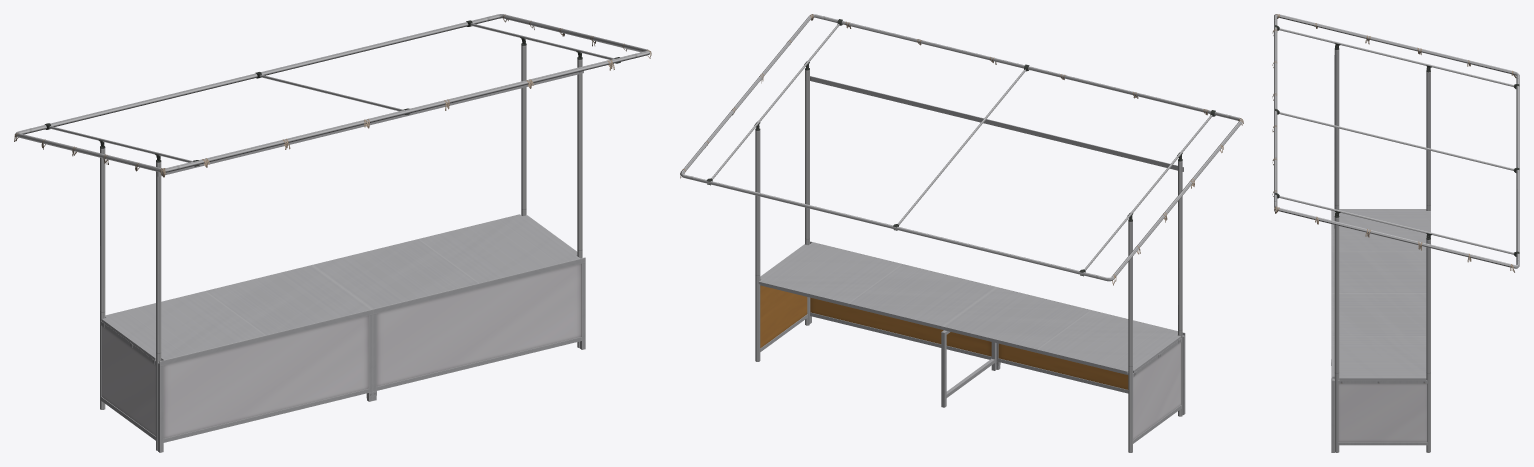
Rendered from jsf_4P_s04_c04_t01.fbx.
The picture shows the model from 3 angles, left to right: view 1: azimuth 30°, elevation 25°; view 2: azimuth 150°, elevation 25°; view 3: azimuth 270°, elevation 25°; orthographic projection. The views are drawn at different scales.
Parts seen in each view (by area): view 1: Base_s04_c04, Table_4P_s04_t01, Pillar4_s04, Rope_4P_s04; view 2: Table_4P_s04_t01, Pillar4_s04, Base_s04_c04, Support; view 3: Table_4P_s04_t01, Pillar4_s04, Base_s04_c04, Rope_4P_s04.
Part boxes in pixels (x1,y1,x2,y2): Base_s04_c04: (100, 257, 585, 452); Table_4P_s04_t01: (101, 214, 579, 364); Pillar4_s04: (14, 14, 649, 450); Rope_4P_s04: (14, 14, 651, 177); Table_4P_s04_t01: (758, 242, 1181, 376); Pillar4_s04: (680, 14, 1242, 452); Base_s04_c04: (760, 241, 1185, 443); Support: (941, 330, 996, 407); Table_4P_s04_t01: (1332, 209, 1430, 383); Pillar4_s04: (1274, 14, 1519, 452); Base_s04_c04: (1331, 210, 1427, 452); Rope_4P_s04: (1272, 14, 1516, 272).
Size of the model in its own units: 395 by 243 by 211.
